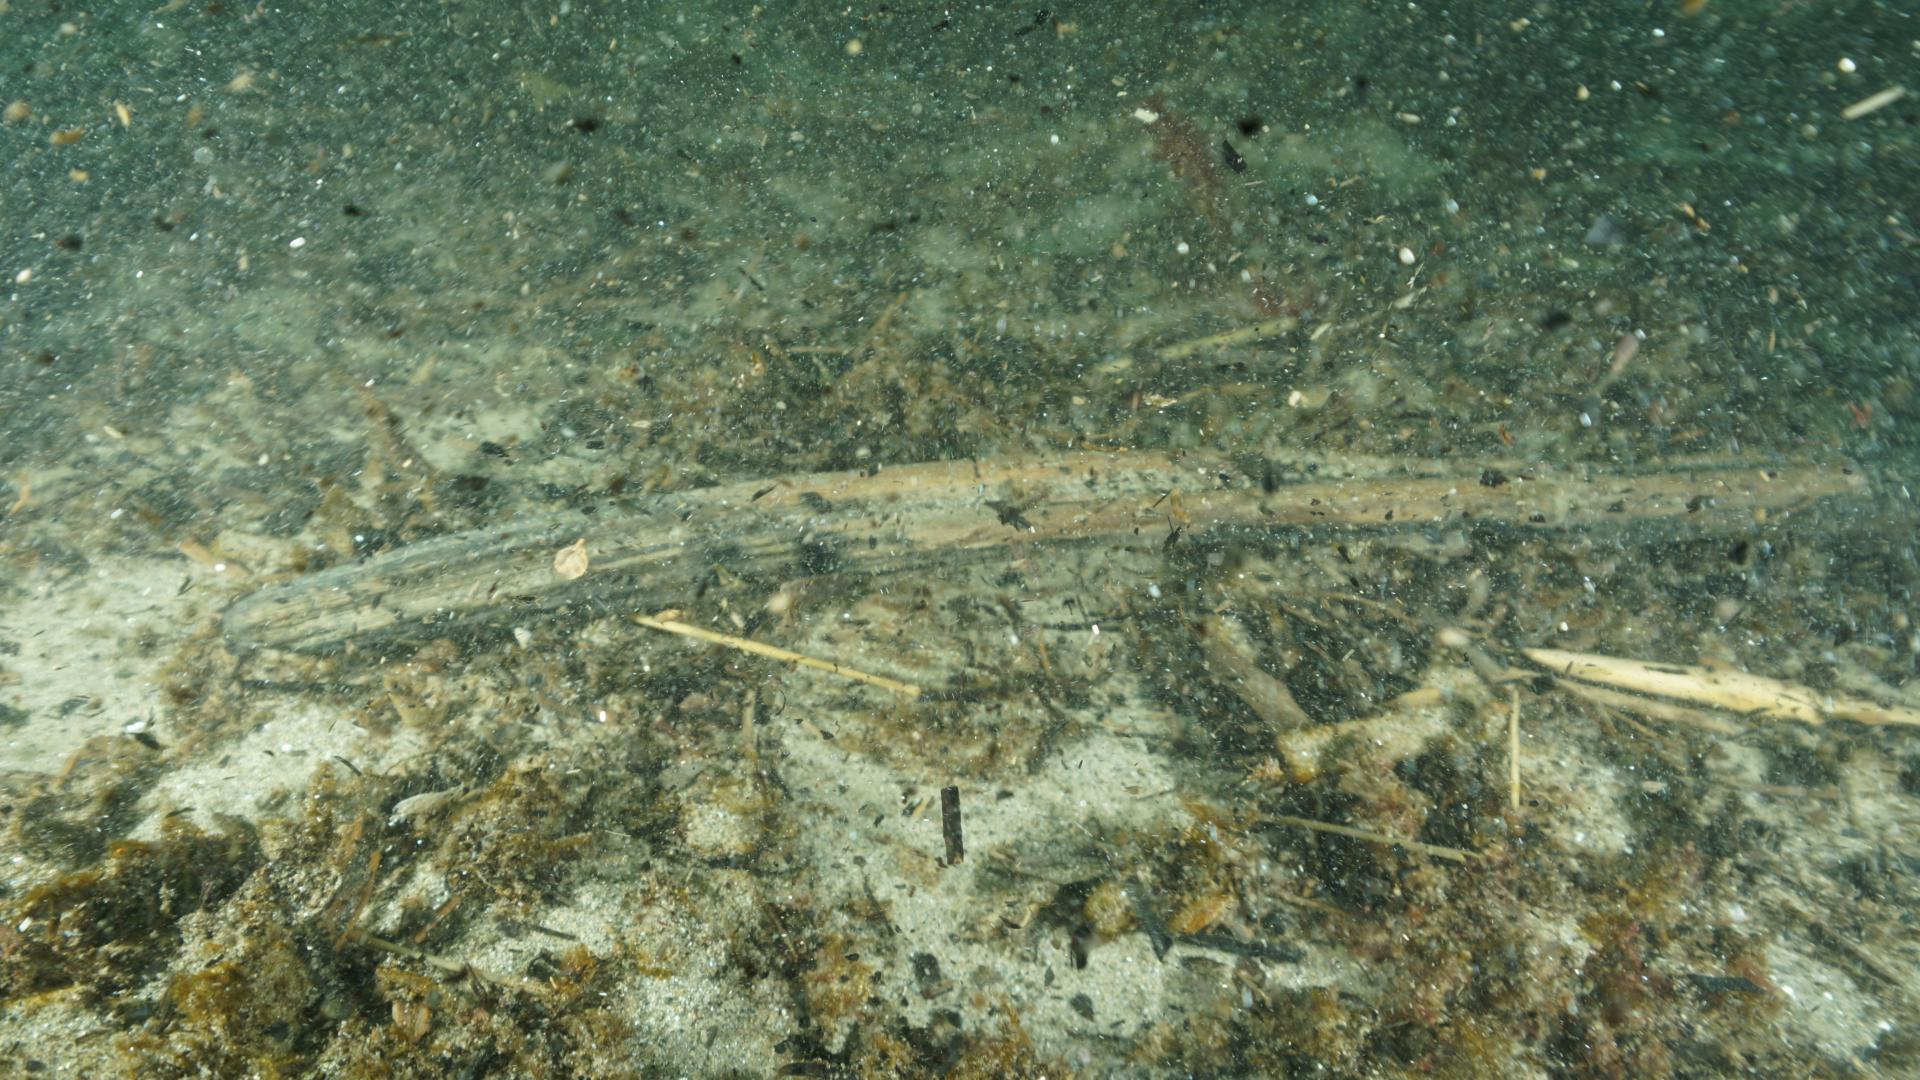wood: (225, 444, 1920, 684)
